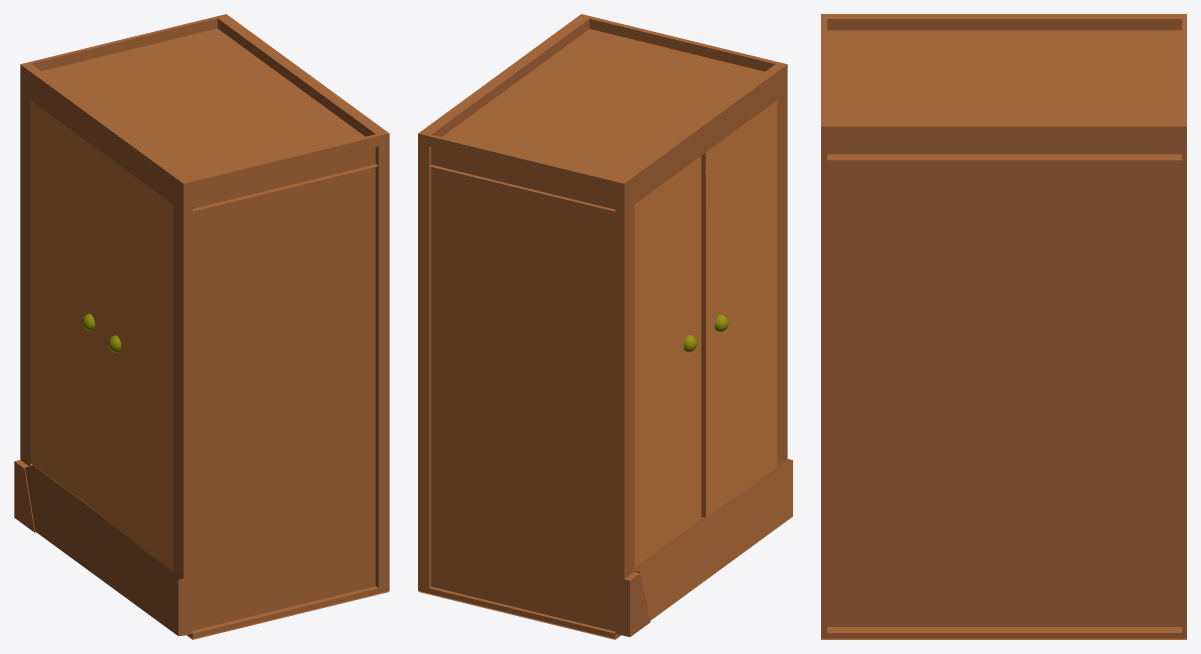
File: closed_wardrobe.fbx
3 views of the same model, side by side, from view 1: azimuth 30°, elevation 25°; view 2: azimuth 150°, elevation 25°; view 3: azimuth 270°, elevation 25° (orthographic). The views are drawn at different scales.
Parts seen in each view (by area): view 1: Cube, Cube.001, Cube.003, Cube.006; view 2: Cube, Cube.001, Cube.003, Cube.002; view 3: Cube.
Part boxes in pixels (left/top/right/bottom): Cube: left=14, top=14, right=389, bottom=639; Cube.001: left=103, top=154, right=173, bottom=571; Cube.003: left=33, top=102, right=103, bottom=516; Cube.006: left=30, top=100, right=32, bottom=464; Cube: left=418, top=14, right=792, bottom=639; Cube.001: left=706, top=100, right=777, bottom=517; Cube.003: left=634, top=156, right=701, bottom=567; Cube.002: left=701, top=152, right=705, bottom=517; Cube: left=821, top=14, right=1186, bottom=639.
Size of the model in its own units: 906 by 1860 by 1201.
